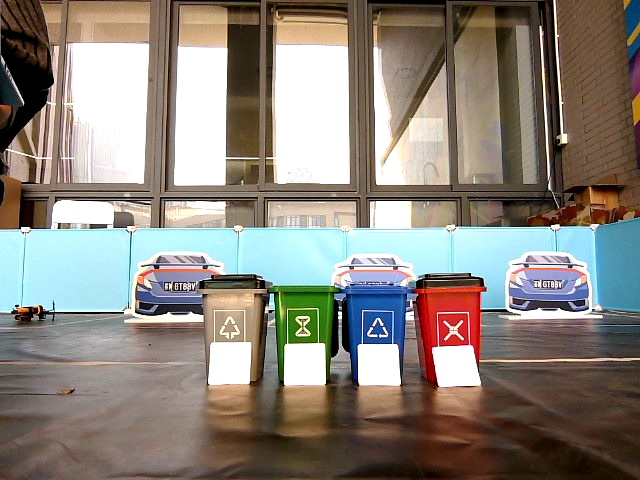blue_open: (347, 288, 404, 341)
green_open: (277, 285, 332, 342)
grey_close: (205, 274, 265, 342)
red_close: (418, 274, 480, 343)
